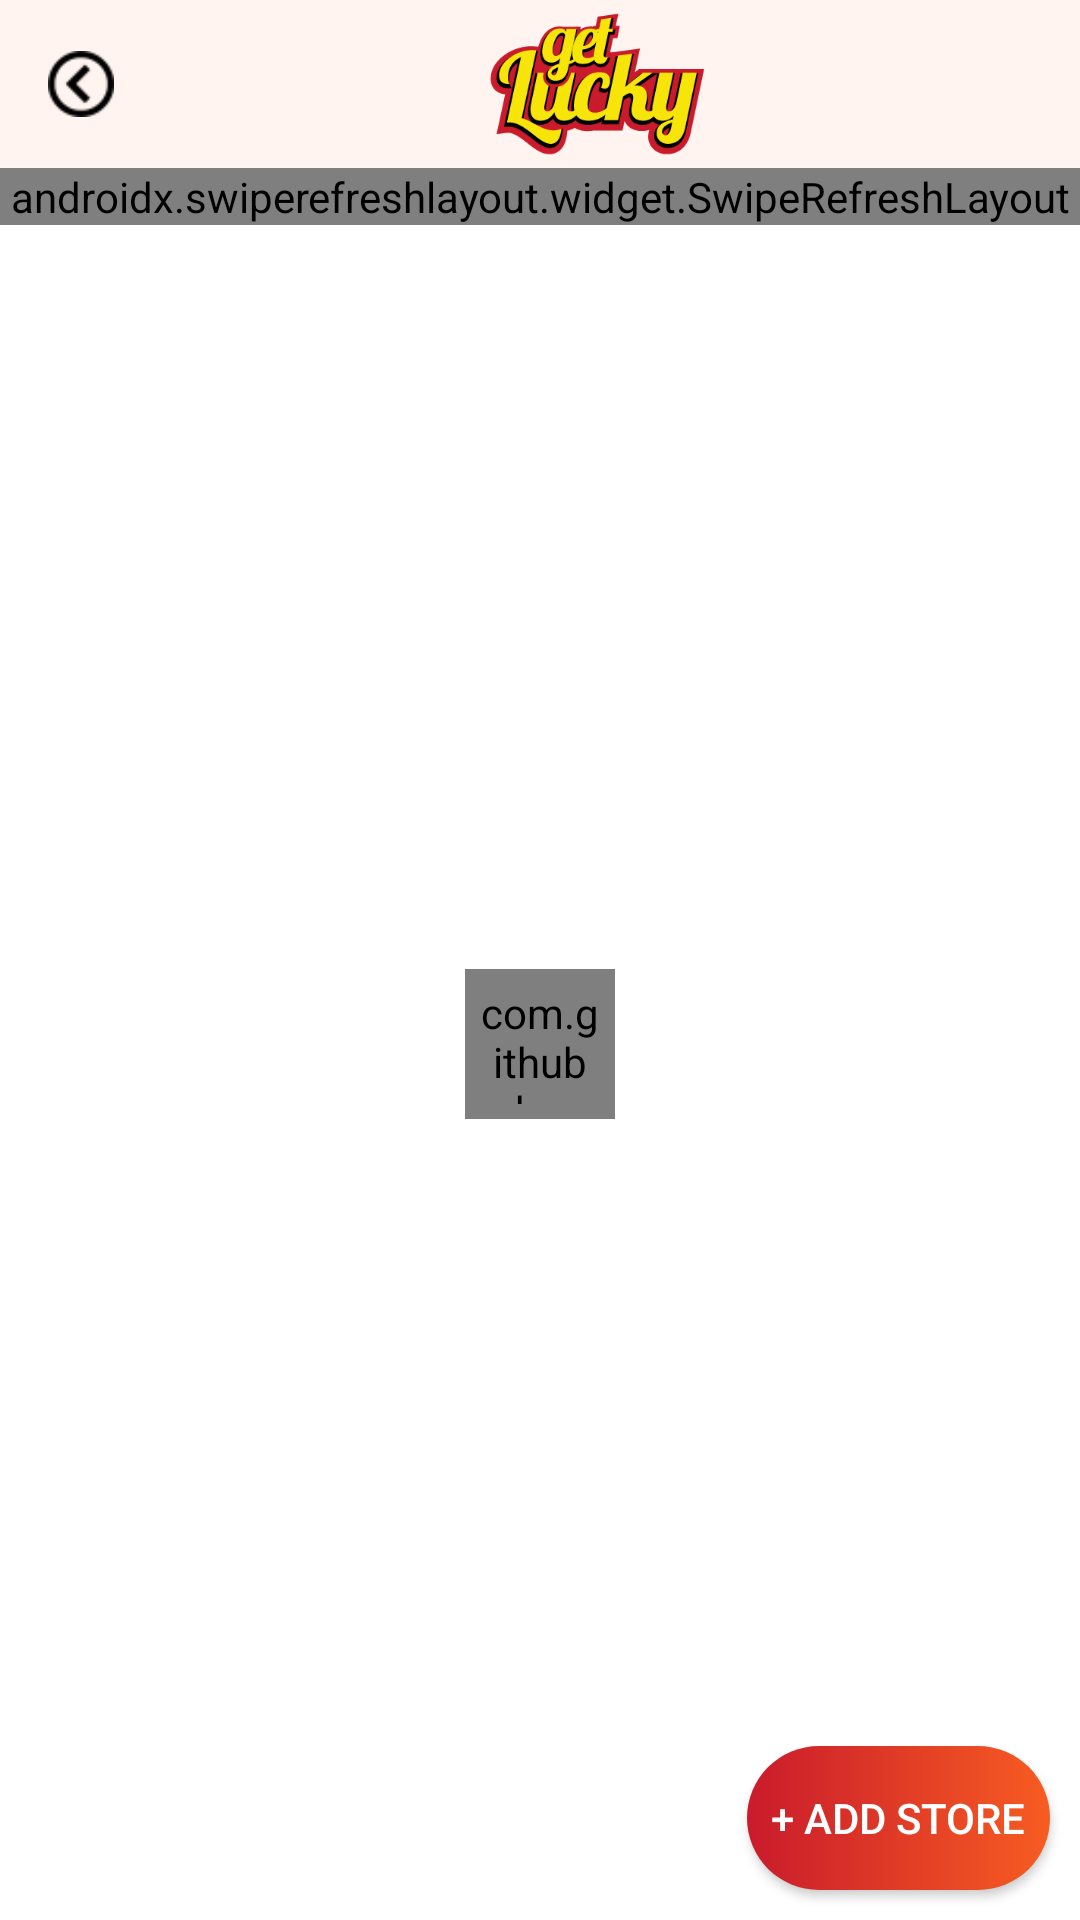

Icon click points for this 1080x1920 phone screenshot, format (x,y):
back: (81,84)
